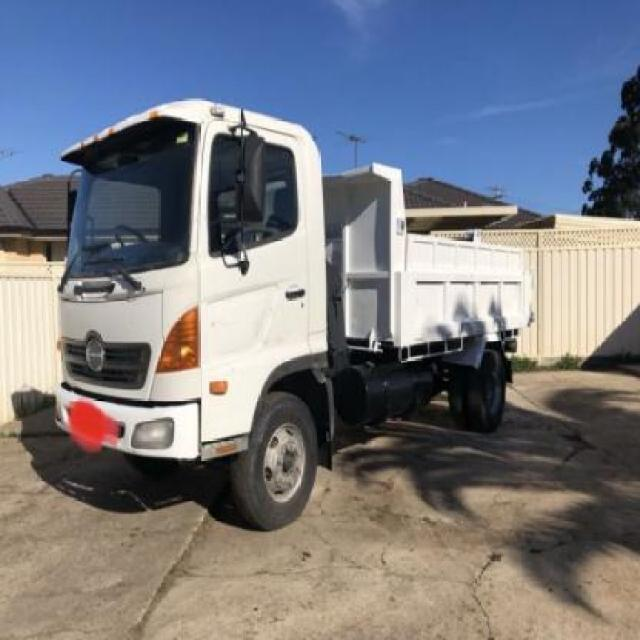Dump Truck: (52, 95, 534, 532)
